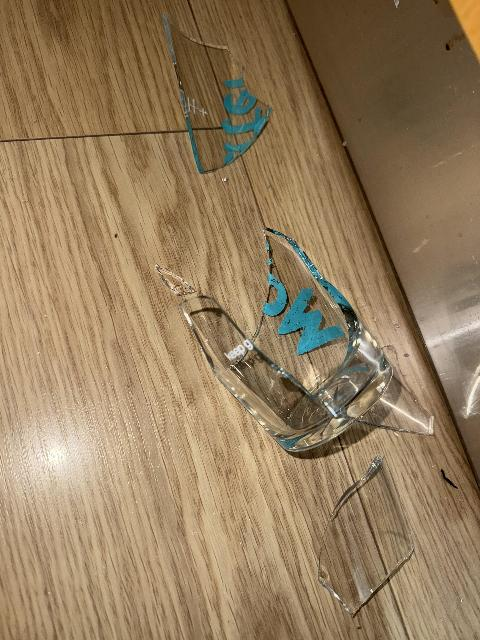Cam: (152, 223, 392, 457), (163, 14, 275, 176), (315, 456, 417, 622)
